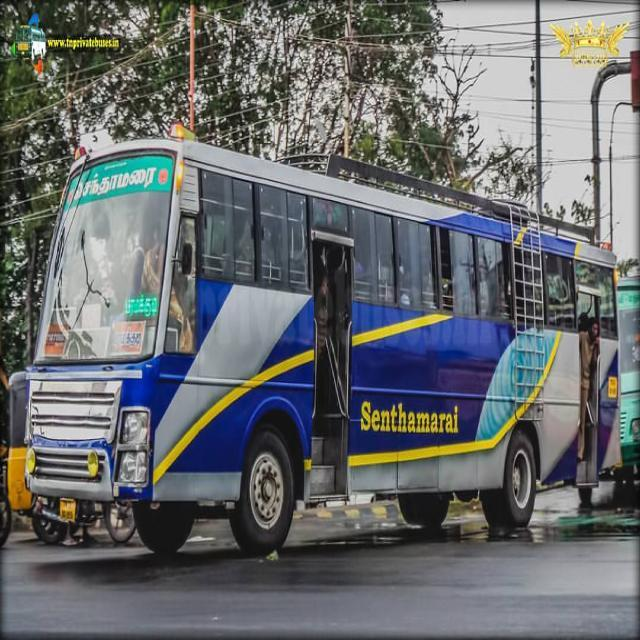Bus: (20, 110, 624, 562)
